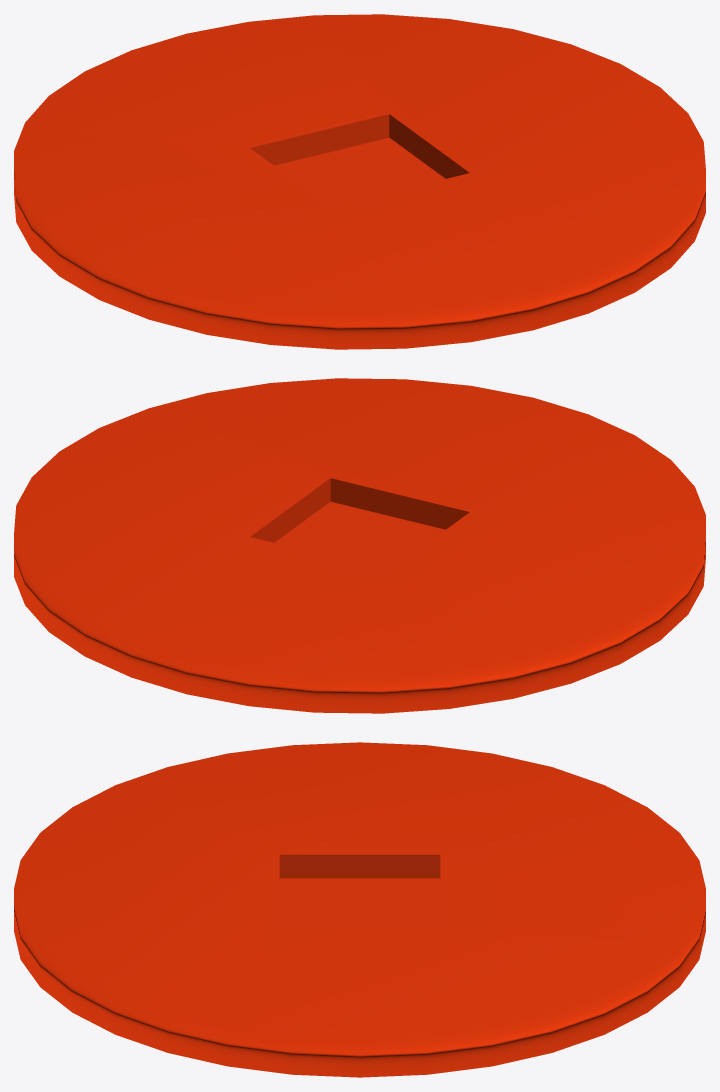
The model's file is coin.glb.
The picture shows the model from 3 angles, top to bottom: view 1: azimuth 30°, elevation 25°; view 2: azimuth 150°, elevation 25°; view 3: azimuth 270°, elevation 25°; orthographic projection.
Parts seen in each view (by area): view 1: coin; view 2: coin; view 3: coin.
Boxes of the visible parts, x1=… form: coin: x1=14, y1=14, x2=705, y2=349; coin: x1=14, y1=378, x2=705, y2=713; coin: x1=14, y1=742, x2=705, y2=1077.
Size of what is drawn, in the model's own units: 1.22 by 0.0829 by 1.22.
